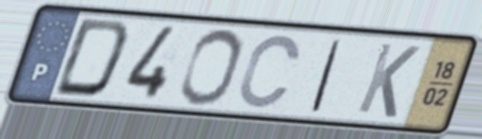4: (121, 24, 179, 104)
C: (235, 32, 304, 111)
D: (49, 15, 135, 101)
I: (307, 37, 346, 115)
K: (353, 39, 424, 121)
O: (176, 26, 246, 108)
